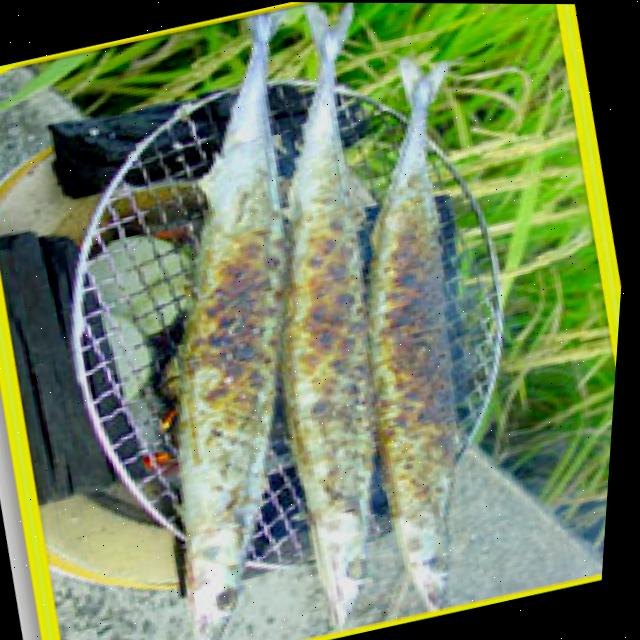熟制海鲜: (26, 0, 564, 640)
